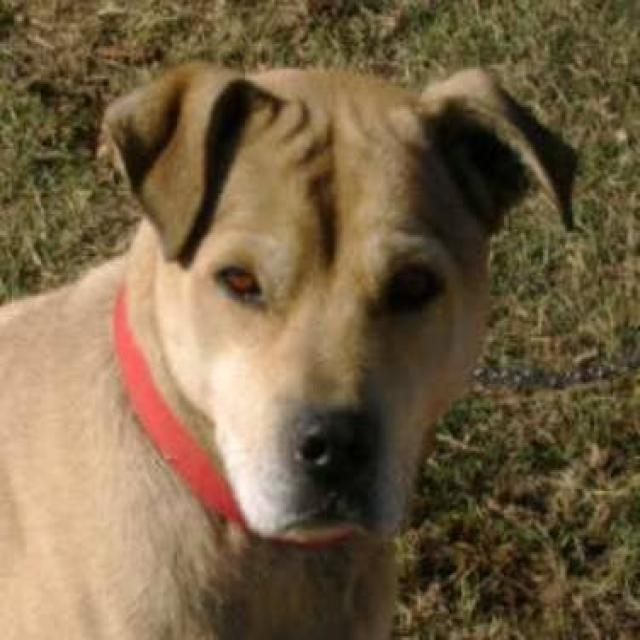dog: (0, 55, 579, 638)
